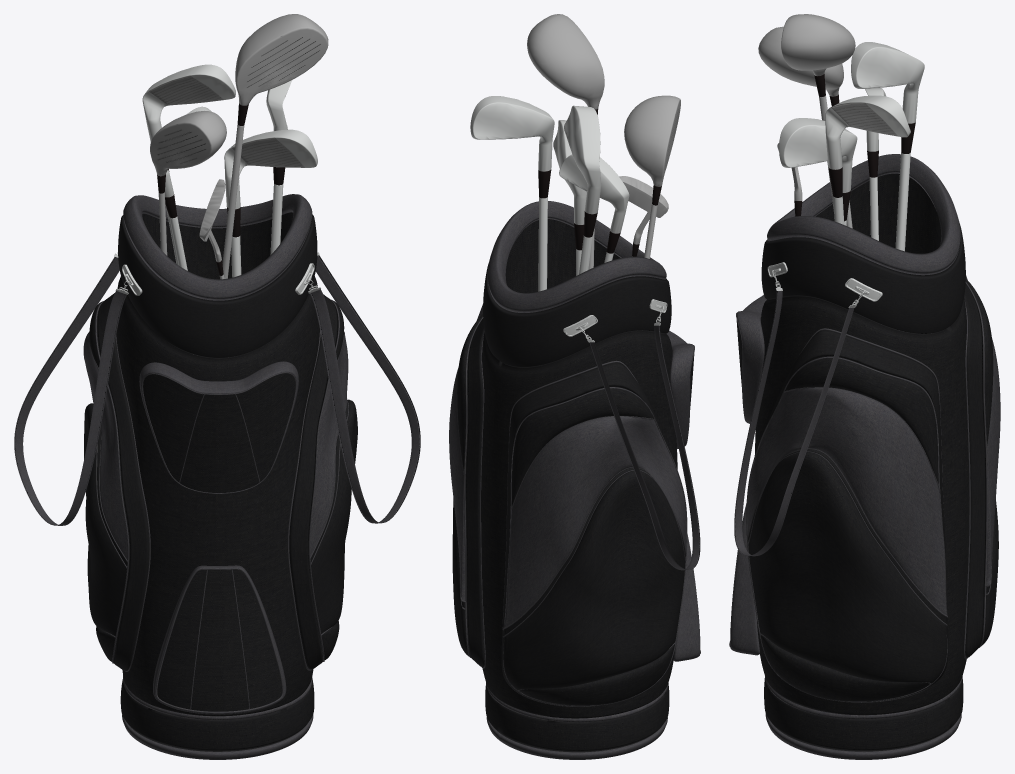
Rendered from golf.glb.
3 renders of one model, left to right at view 1: azimuth 30°, elevation 25°; view 2: azimuth 150°, elevation 25°; view 3: azimuth 270°, elevation 25°, orthographic. The views are drawn at different scales.
Visible parts, largest first — view 1: golf_bag, golf_clubs, golf_bag_straps, Default group initialShadingGroup polySurface1445 polySurfac; view 2: golf_bag, golf_clubs, golf_bag_straps, Default group initialShadingGroup polySurface1445 polySurfac; view 3: golf_bag, golf_clubs, Default group initialShadingGroup polySurface1445 polySurfac, golf_bag_straps.
Part boxes in pixels (bbox=[...]): golf_bag: bbox=[83, 194, 357, 759]; golf_clubs: bbox=[142, 14, 328, 279]; golf_bag_straps: bbox=[14, 252, 420, 525]; Default group initialShadingGroup polySurface1445 polySurfac: bbox=[142, 212, 293, 279]; golf_bag: bbox=[449, 201, 700, 759]; golf_clubs: bbox=[470, 14, 680, 291]; golf_bag_straps: bbox=[476, 299, 700, 570]; Default group initialShadingGroup polySurface1445 polySurfac: bbox=[505, 219, 620, 293]; golf_bag: bbox=[729, 154, 1000, 759]; golf_clubs: bbox=[758, 14, 924, 251]; Default group initialShadingGroup polySurface1445 polySurfac: bbox=[816, 173, 941, 253]; golf_bag_straps: bbox=[734, 262, 967, 556].
Size of the model in its own units: 0.6155 by 1.35 by 0.4543.
2 materials, 2 textured.
